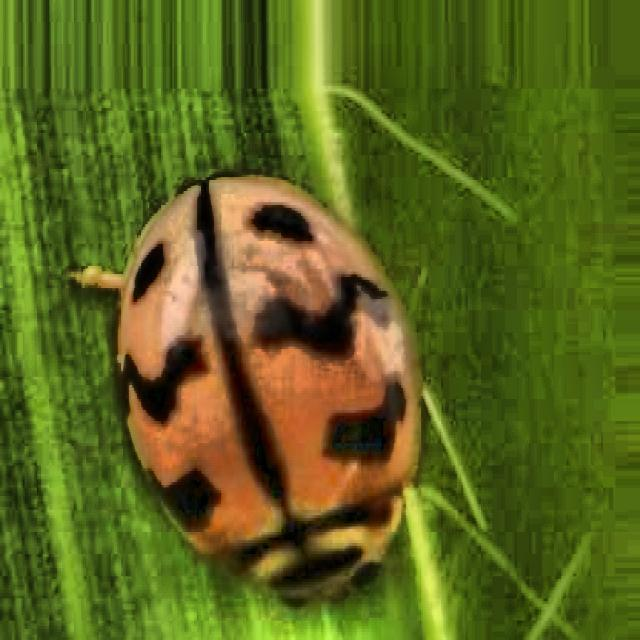Asian-Lady-beetle: (86, 126, 445, 634)
